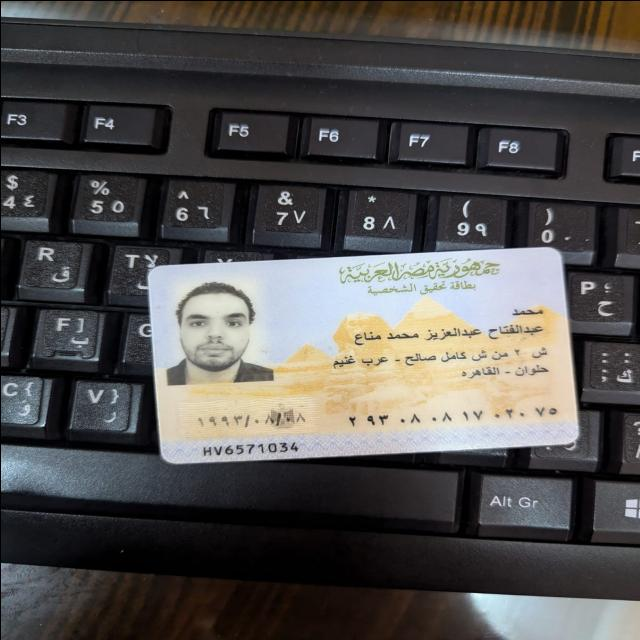id_card: (140, 241, 590, 473)
